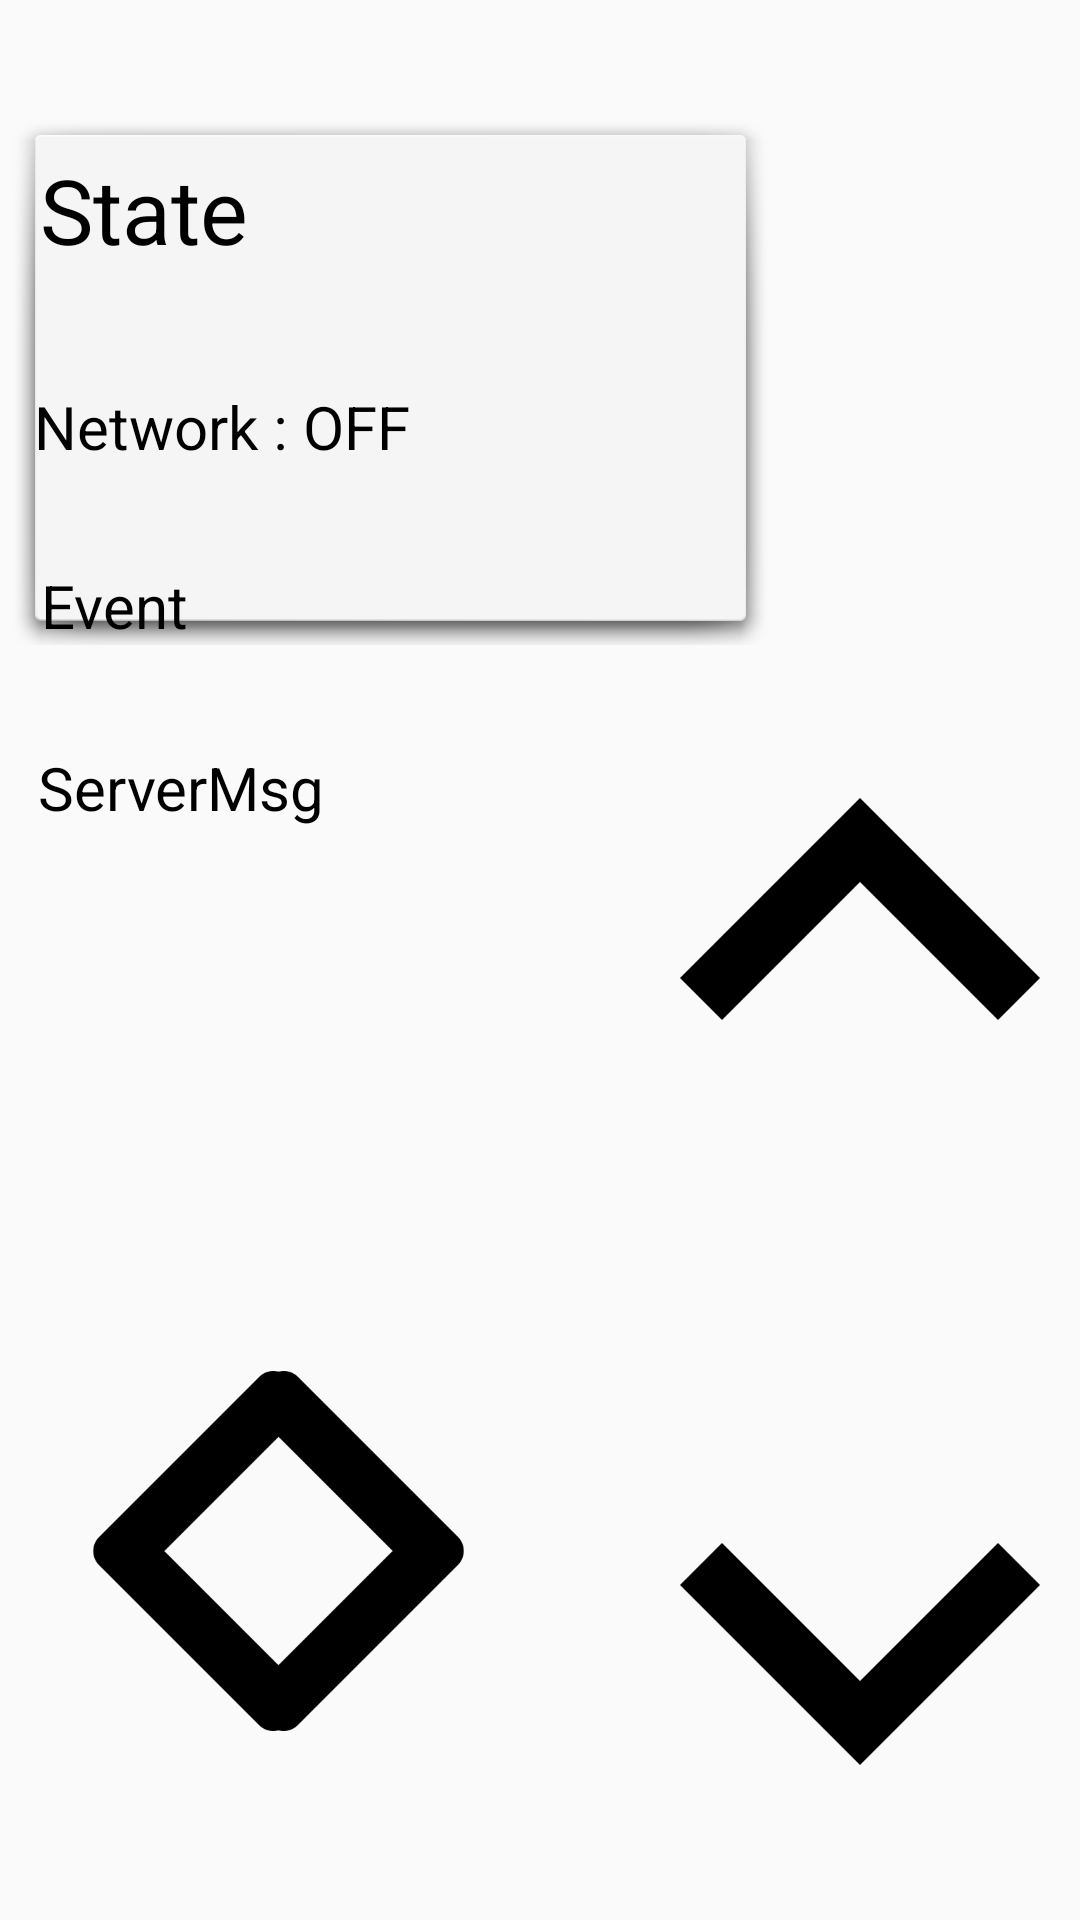

Icon click points for this 1080x1920 phone screenshot, format (x=x, y=y):
down: (x=860, y=1654)
